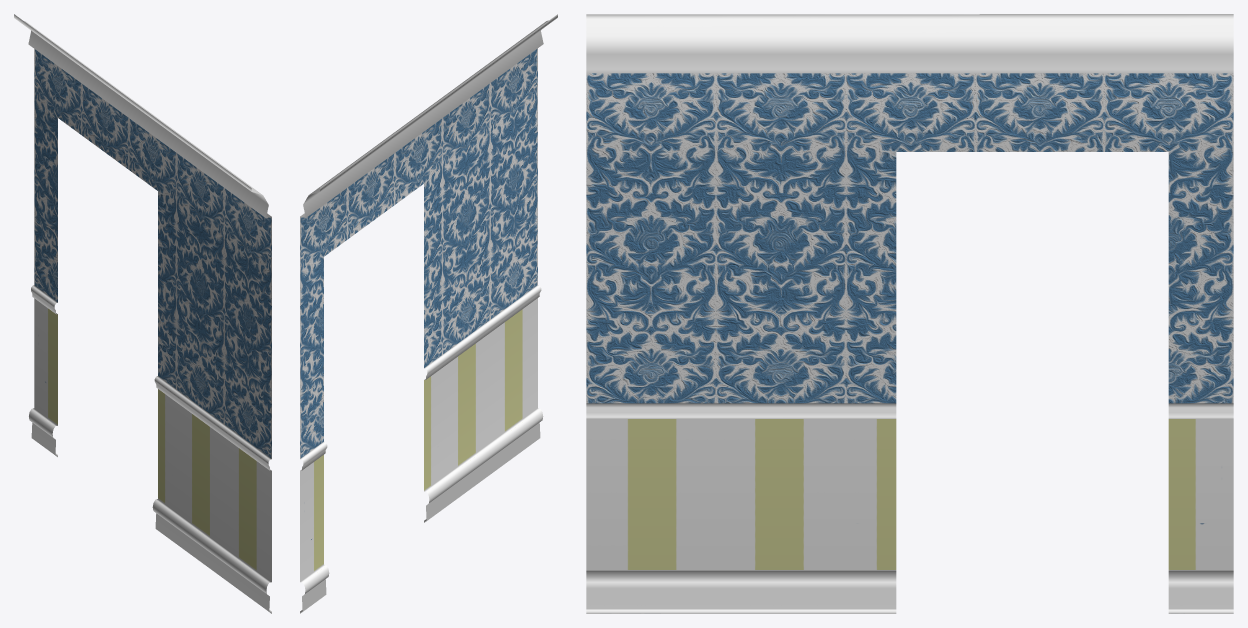
File: EN_WallDoor_01.fbx
3 views of the same model, side by side, from view 1: azimuth 30°, elevation 25°; view 2: azimuth 150°, elevation 25°; view 3: azimuth 270°, elevation 25° (orthographic). The views are drawn at different scales.
Visible parts, largest first — view 1: pPlane2; view 2: pPlane2; view 3: pPlane2.
Part boxes in pixels (x1=…): pPlane2: x1=14, y1=14, x2=271, y2=613; pPlane2: x1=300, y1=14, x2=557, y2=613; pPlane2: x1=586, y1=14, x2=1233, y2=613.
Size of the model in its own units: 0.244 by 5 by 5.
